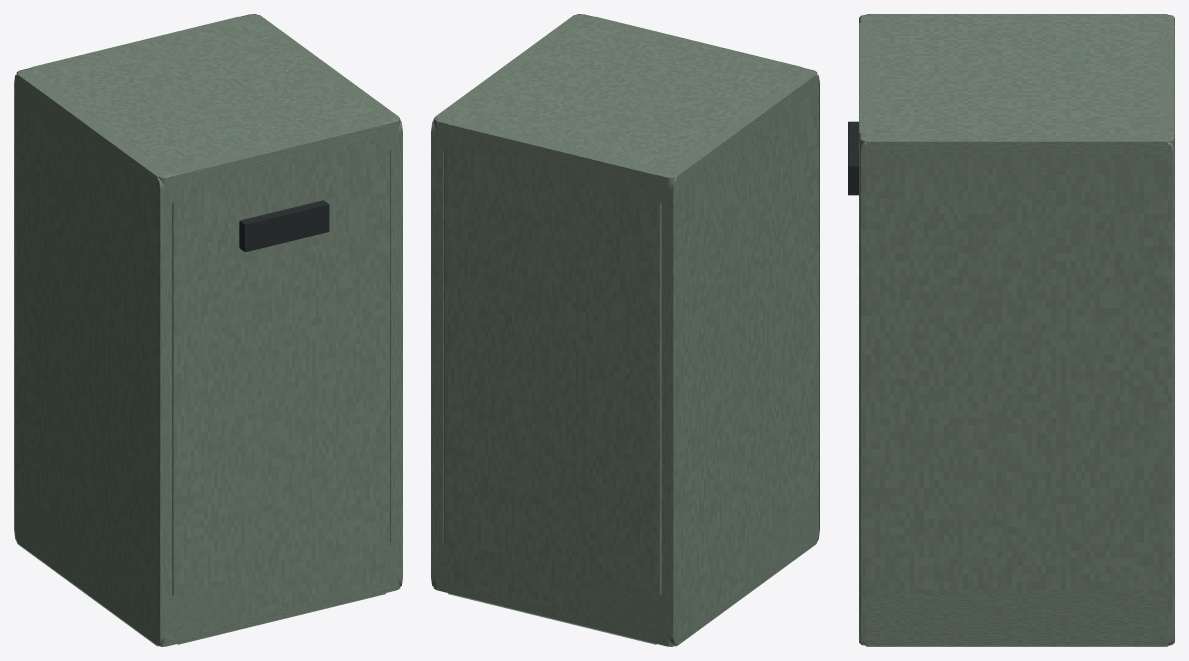
Rendered from recycling.glb.
3 views of the same model, side by side, from view 1: azimuth 30°, elevation 25°; view 2: azimuth 150°, elevation 25°; view 3: azimuth 270°, elevation 25° (orthographic). The views are drawn at different scales.
Parts seen in each view (by area): view 1: edge (×2), side (×2), lid, bottom, grip; view 2: edge (×2), side (×2), lid, bottom; view 3: side (×2), lid, bottom, edge (×2), grip.
Part boxes in pixels (x1,y1,x2,y2): edge (×2): [31, 16, 390, 644]; side (×2): [14, 15, 402, 646]; lid: [16, 14, 400, 203]; bottom: [17, 494, 400, 646]; grip: [239, 200, 329, 251]; edge (×2): [443, 16, 802, 644]; side (×2): [431, 15, 819, 646]; lid: [433, 14, 817, 204]; bottom: [433, 494, 816, 646]; side (×2): [859, 14, 1174, 646]; lid: [859, 15, 1174, 170]; bottom: [859, 593, 1174, 645]; edge (×2): [859, 23, 1174, 132]; grip: [848, 121, 858, 195].
Size of the model in its own units: 0.41 by 0.76 by 0.4451.
2 materials, 2 textured.
